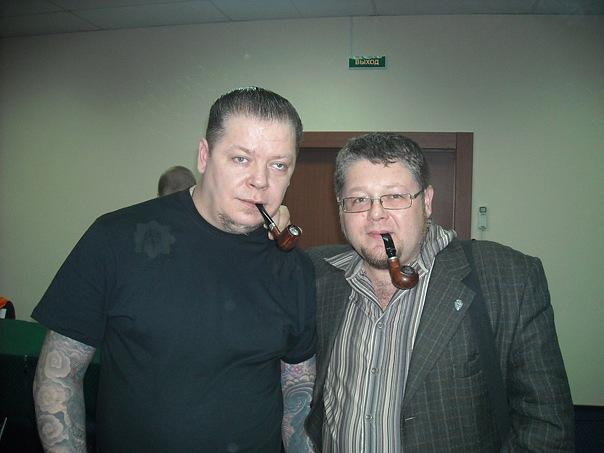trubka: (381, 234, 419, 289), (258, 205, 301, 252)
